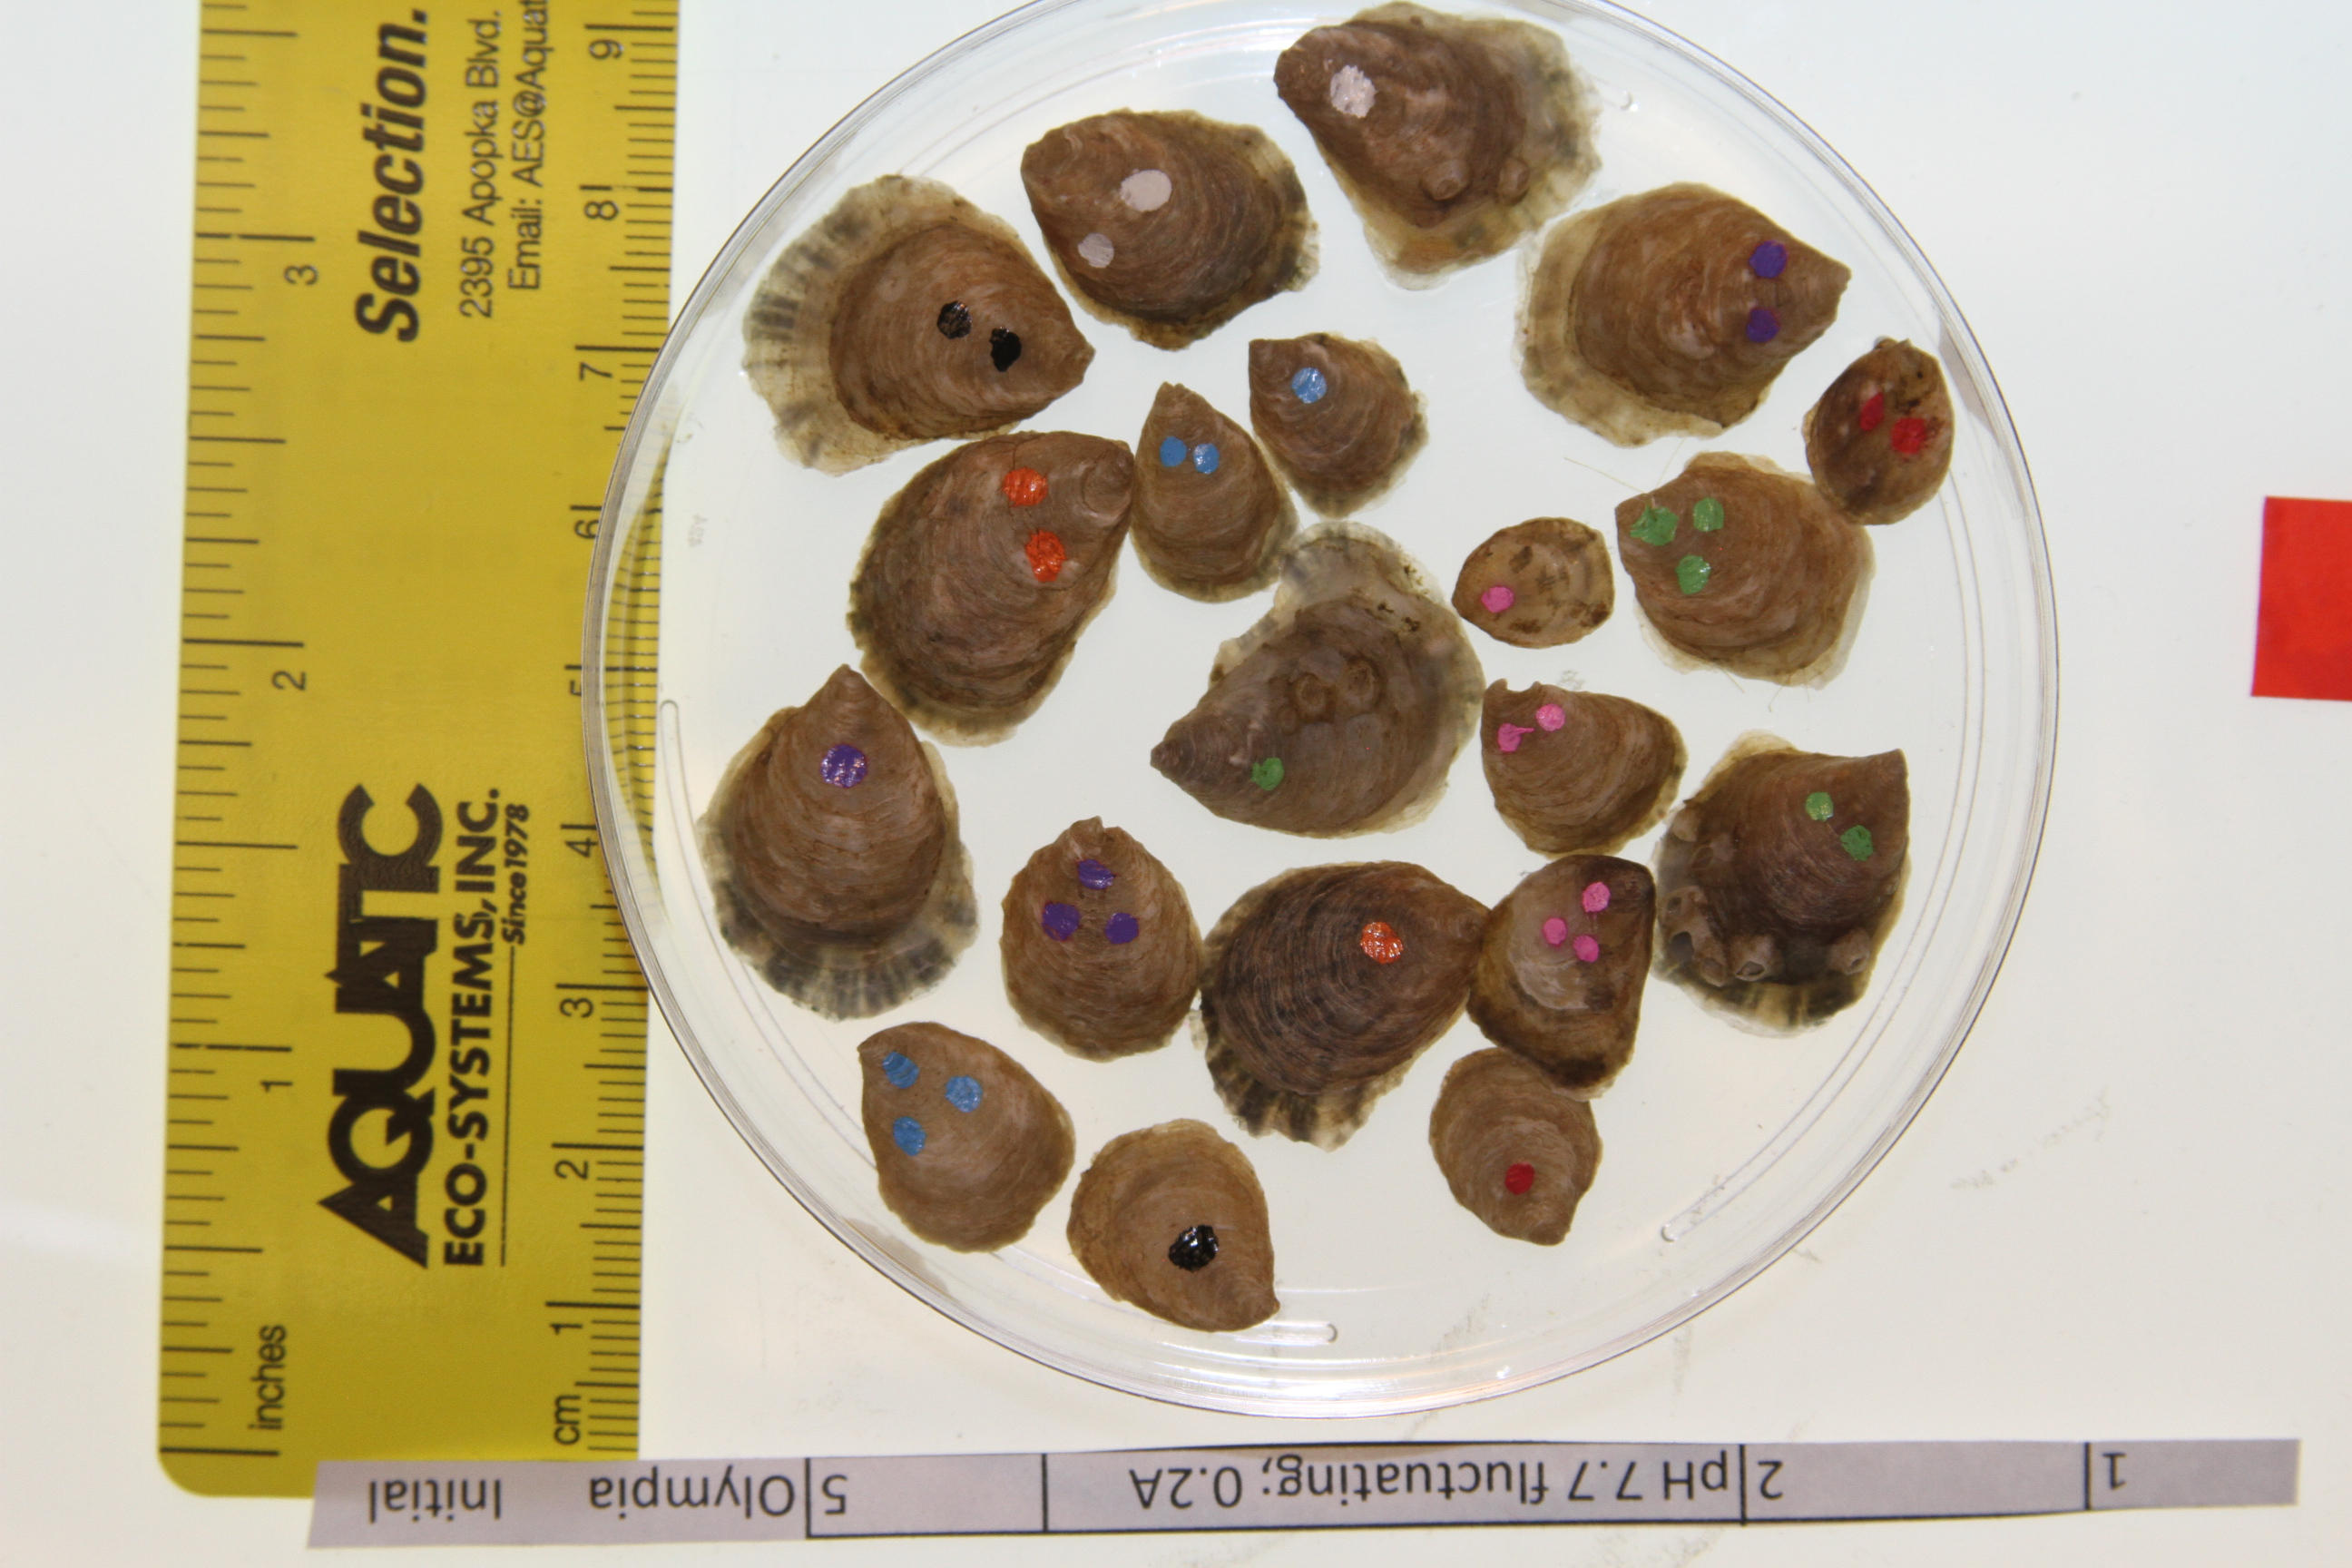oyster: (738, 166, 1099, 480), (1150, 522, 1487, 843), (691, 658, 984, 1029), (1276, 2, 1607, 296), (1510, 173, 1853, 455), (845, 427, 1141, 753), (1645, 723, 1928, 1046), (1195, 857, 1498, 1155), (1019, 107, 1326, 359), (1612, 446, 1876, 695), (996, 812, 1211, 1068), (854, 1017, 1074, 1258), (1466, 852, 1657, 1104), (1064, 1118, 1283, 1335), (1475, 670, 1689, 866), (1125, 380, 1305, 604), (1242, 331, 1432, 523), (1426, 1045, 1603, 1248), (1797, 329, 1958, 534), (1449, 514, 1613, 653)
